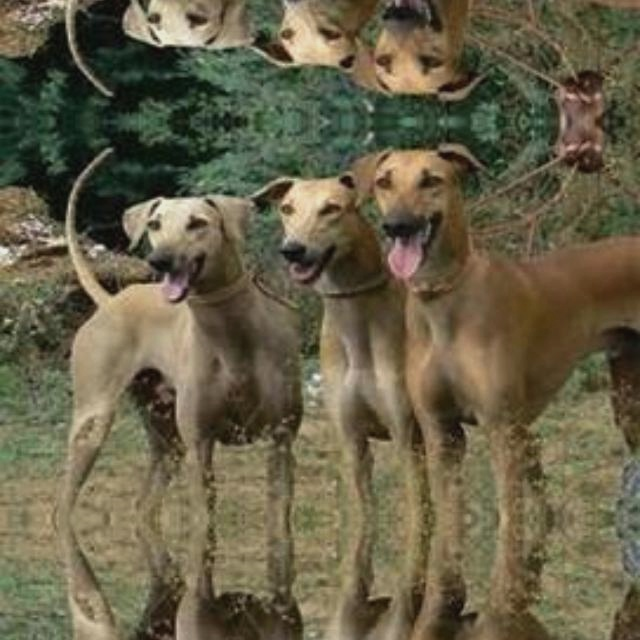dog: (363, 142, 640, 488), (38, 177, 258, 482), (363, 0, 640, 99), (363, 549, 640, 640), (38, 555, 259, 640), (260, 160, 374, 298), (38, 0, 259, 65), (260, 0, 374, 82)
